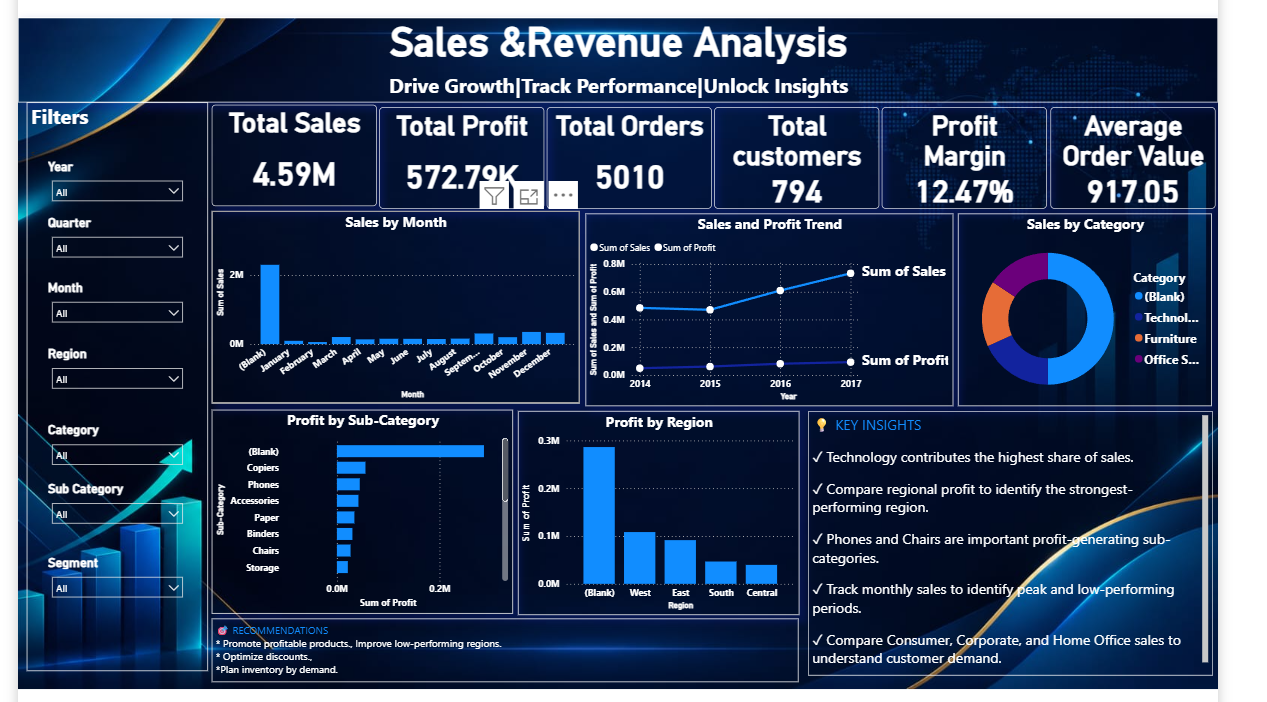

What the dashboard file says about the page in this screenshot:
{"tool":"powerbi","page":{"name":"sales revenue analysis","canvas":[1600,1000],"ordinal":0},"visuals":[{"type":"textbox","title":"Sales &Revenue Analysis","box":[0,48.3,1600,113.3],"z":0},{"type":"textbox","title":"Filters","box":[11.7,161.7,241.7,758.3],"z":1},{"type":"card","title":"Total Sales","fields":{"Values":["Sum(sales_dataset.Sales)"]},"box":[258.3,165,220,135],"z":2},{"type":"card","title":"Total Profit","fields":{"Values":["Sum(sales_dataset.Profit)"]},"box":[481.7,168.3,220,135],"z":3},{"type":"card","title":"Total Orders","fields":{"Values":["Count(sales_dataset.Order ID)"]},"box":[705,168.3,220,135],"z":4},{"type":"card","title":"Total customers","fields":{"Values":["Count(sales_dataset.Customer ID)"]},"box":[928.3,168.3,220,135],"z":5},{"type":"card","title":"Profit Margin ","fields":{"Values":["sales_dataset.Profit Margin"]},"box":[1151.7,168.3,220,135],"z":6},{"type":"card","title":"Average Order Value","fields":{"Values":["sales_dataset.Average Order Value"]},"box":[1376.7,168.3,220,135],"z":7},{"type":"columnChart","title":"Sales by Month","fields":{"Category":["sales_dataset.Order Date.Variation.Date Hierarchy.Month"],"Y":["Sum(sales_dataset.Sales)"]},"box":[258.3,306.7,490,256.7],"z":8},{"type":"lineChart","title":" Sales and Profit Trend","fields":{"Category":["sales_dataset.Order Date.Variation.Date Hierarchy.Year"],"Y":["Sum(sales_dataset.Sales)","Sum(sales_dataset.Profit)"]},"box":[756.7,310,490,256.7],"z":9},{"type":"donutChart","title":"Sales by Category","fields":{"Category":["sales_dataset.Category"],"Y":["Sum(sales_dataset.Sales)"]},"box":[1253.3,310,338.3,256.7],"z":10},{"type":"clusteredBarChart","title":" Profit by Sub-Category","fields":{"Category":["sales_dataset.Sub-Category"],"Y":["Sum(sales_dataset.Profit)"]},"box":[258.3,571.7,401.7,271.7],"z":11},{"type":"clusteredColumnChart","title":"Profit by Region","fields":{"Category":["sales_dataset.Region"],"Y":["Sum(sales_dataset.Profit)"]},"box":[666.7,573.3,375,271.7],"z":12},{"type":"textbox","box":[1053.3,573.3,540,353],"z":14},{"type":"textbox","box":[258.3,850,782,85],"z":15},{"type":"slicer","title":"Category","fields":{"Values":["sales_dataset.Category"]},"box":[35,588.3,195,85],"z":16},{"type":"slicer","title":"Region","fields":{"Values":["sales_dataset.Region"]},"box":[35,486.7,195,86.7],"z":17},{"type":"slicer","title":"Segment","fields":{"Values":["sales_dataset.Segment"]},"box":[35,765,195,78.3],"z":18},{"type":"slicer","title":"Sub Category","fields":{"Values":["sales_dataset.Sub-Category"]},"box":[35,666.7,195,81.7],"z":19},{"type":"slicer","title":"Year","fields":{"Values":["sales_dataset.Order Date.Variation.Date Hierarchy.Year"]},"box":[35,236.7,195,73.3],"z":20},{"type":"slicer","title":"Month","fields":{"Values":["sales_dataset.Order Date.Variation.Date Hierarchy.Month"]},"box":[35,398.3,195,73.3],"z":21},{"type":"slicer","title":"Quarter","fields":{"Values":["sales_dataset.Order Date.Variation.Date Hierarchy.Quarter"]},"box":[35,311.7,195,73],"z":22}]}

Visuals, with their boxes on the page's 1600x1000 design canvas (x1, y1, x2, y2). These are canvas units, not pixel positions in the 1267x702 screenshot, which may show the page scaled, cropped or inside an application window:
"Sales &Revenue Analysis" textbox: x1=0, y1=48, x2=1600, y2=162
"Filters" textbox: x1=12, y1=162, x2=253, y2=920
"Total Sales" card: x1=258, y1=165, x2=478, y2=300
"Total Profit" card: x1=482, y1=168, x2=702, y2=303
"Total Orders" card: x1=705, y1=168, x2=925, y2=303
"Total customers" card: x1=928, y1=168, x2=1148, y2=303
"Profit Margin " card: x1=1152, y1=168, x2=1372, y2=303
"Average Order Value" card: x1=1377, y1=168, x2=1597, y2=303
"Sales by Month" columnChart: x1=258, y1=307, x2=748, y2=563
" Sales and Profit Trend" lineChart: x1=757, y1=310, x2=1247, y2=567
"Sales by Category" donutChart: x1=1253, y1=310, x2=1592, y2=567
" Profit by Sub-Category" clusteredBarChart: x1=258, y1=572, x2=660, y2=843
"Profit by Region" clusteredColumnChart: x1=667, y1=573, x2=1042, y2=845
textbox: x1=1053, y1=573, x2=1593, y2=926
textbox: x1=258, y1=850, x2=1040, y2=935
"Category" slicer: x1=35, y1=588, x2=230, y2=673
"Region" slicer: x1=35, y1=487, x2=230, y2=573
"Segment" slicer: x1=35, y1=765, x2=230, y2=843
"Sub Category" slicer: x1=35, y1=667, x2=230, y2=748
"Year" slicer: x1=35, y1=237, x2=230, y2=310
"Month" slicer: x1=35, y1=398, x2=230, y2=472
"Quarter" slicer: x1=35, y1=312, x2=230, y2=385
